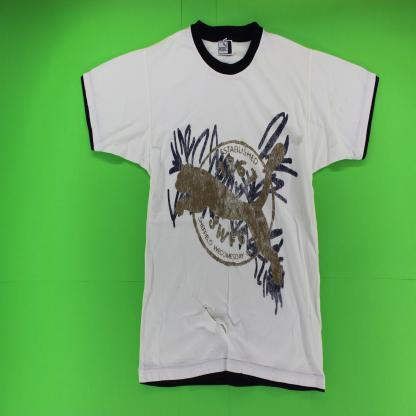hole: (191, 294, 229, 336)
